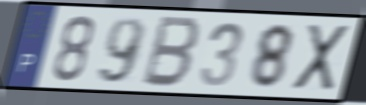3: (198, 21, 245, 89)
8: (249, 22, 298, 91), (52, 13, 96, 83)
9: (95, 15, 151, 85)
B: (138, 14, 204, 91)
X: (290, 23, 352, 94)
